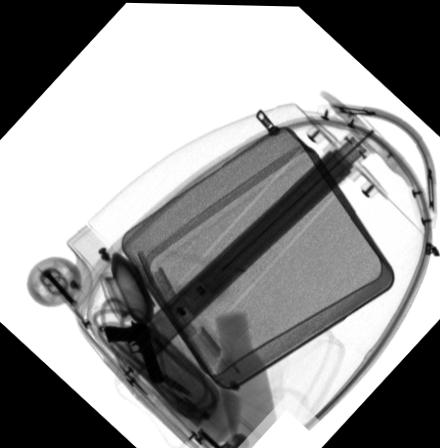Gun: (103, 317, 164, 383)
